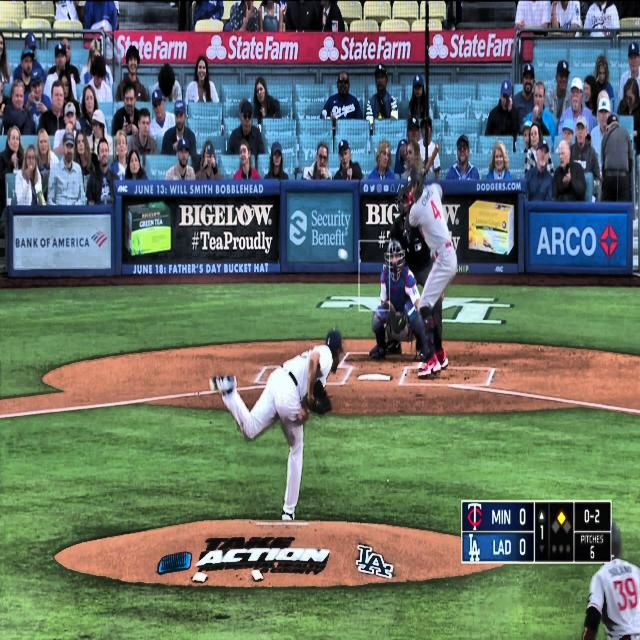baseball: (338, 246, 349, 262)
